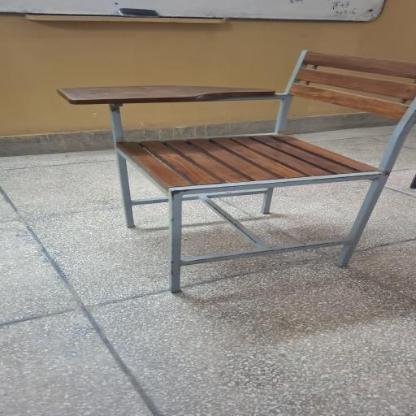chair: (54, 43, 416, 299)
